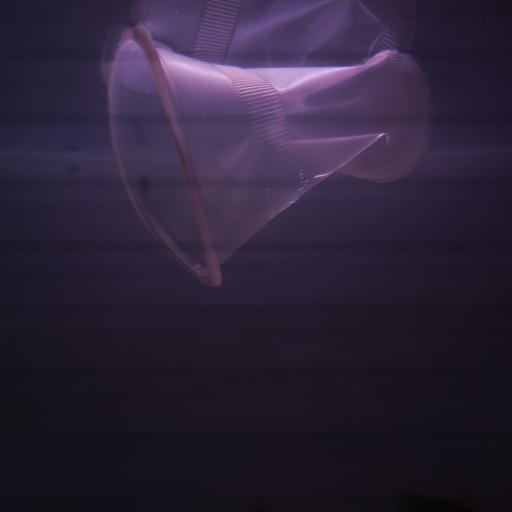plastic_cup: (104, 22, 434, 290)
